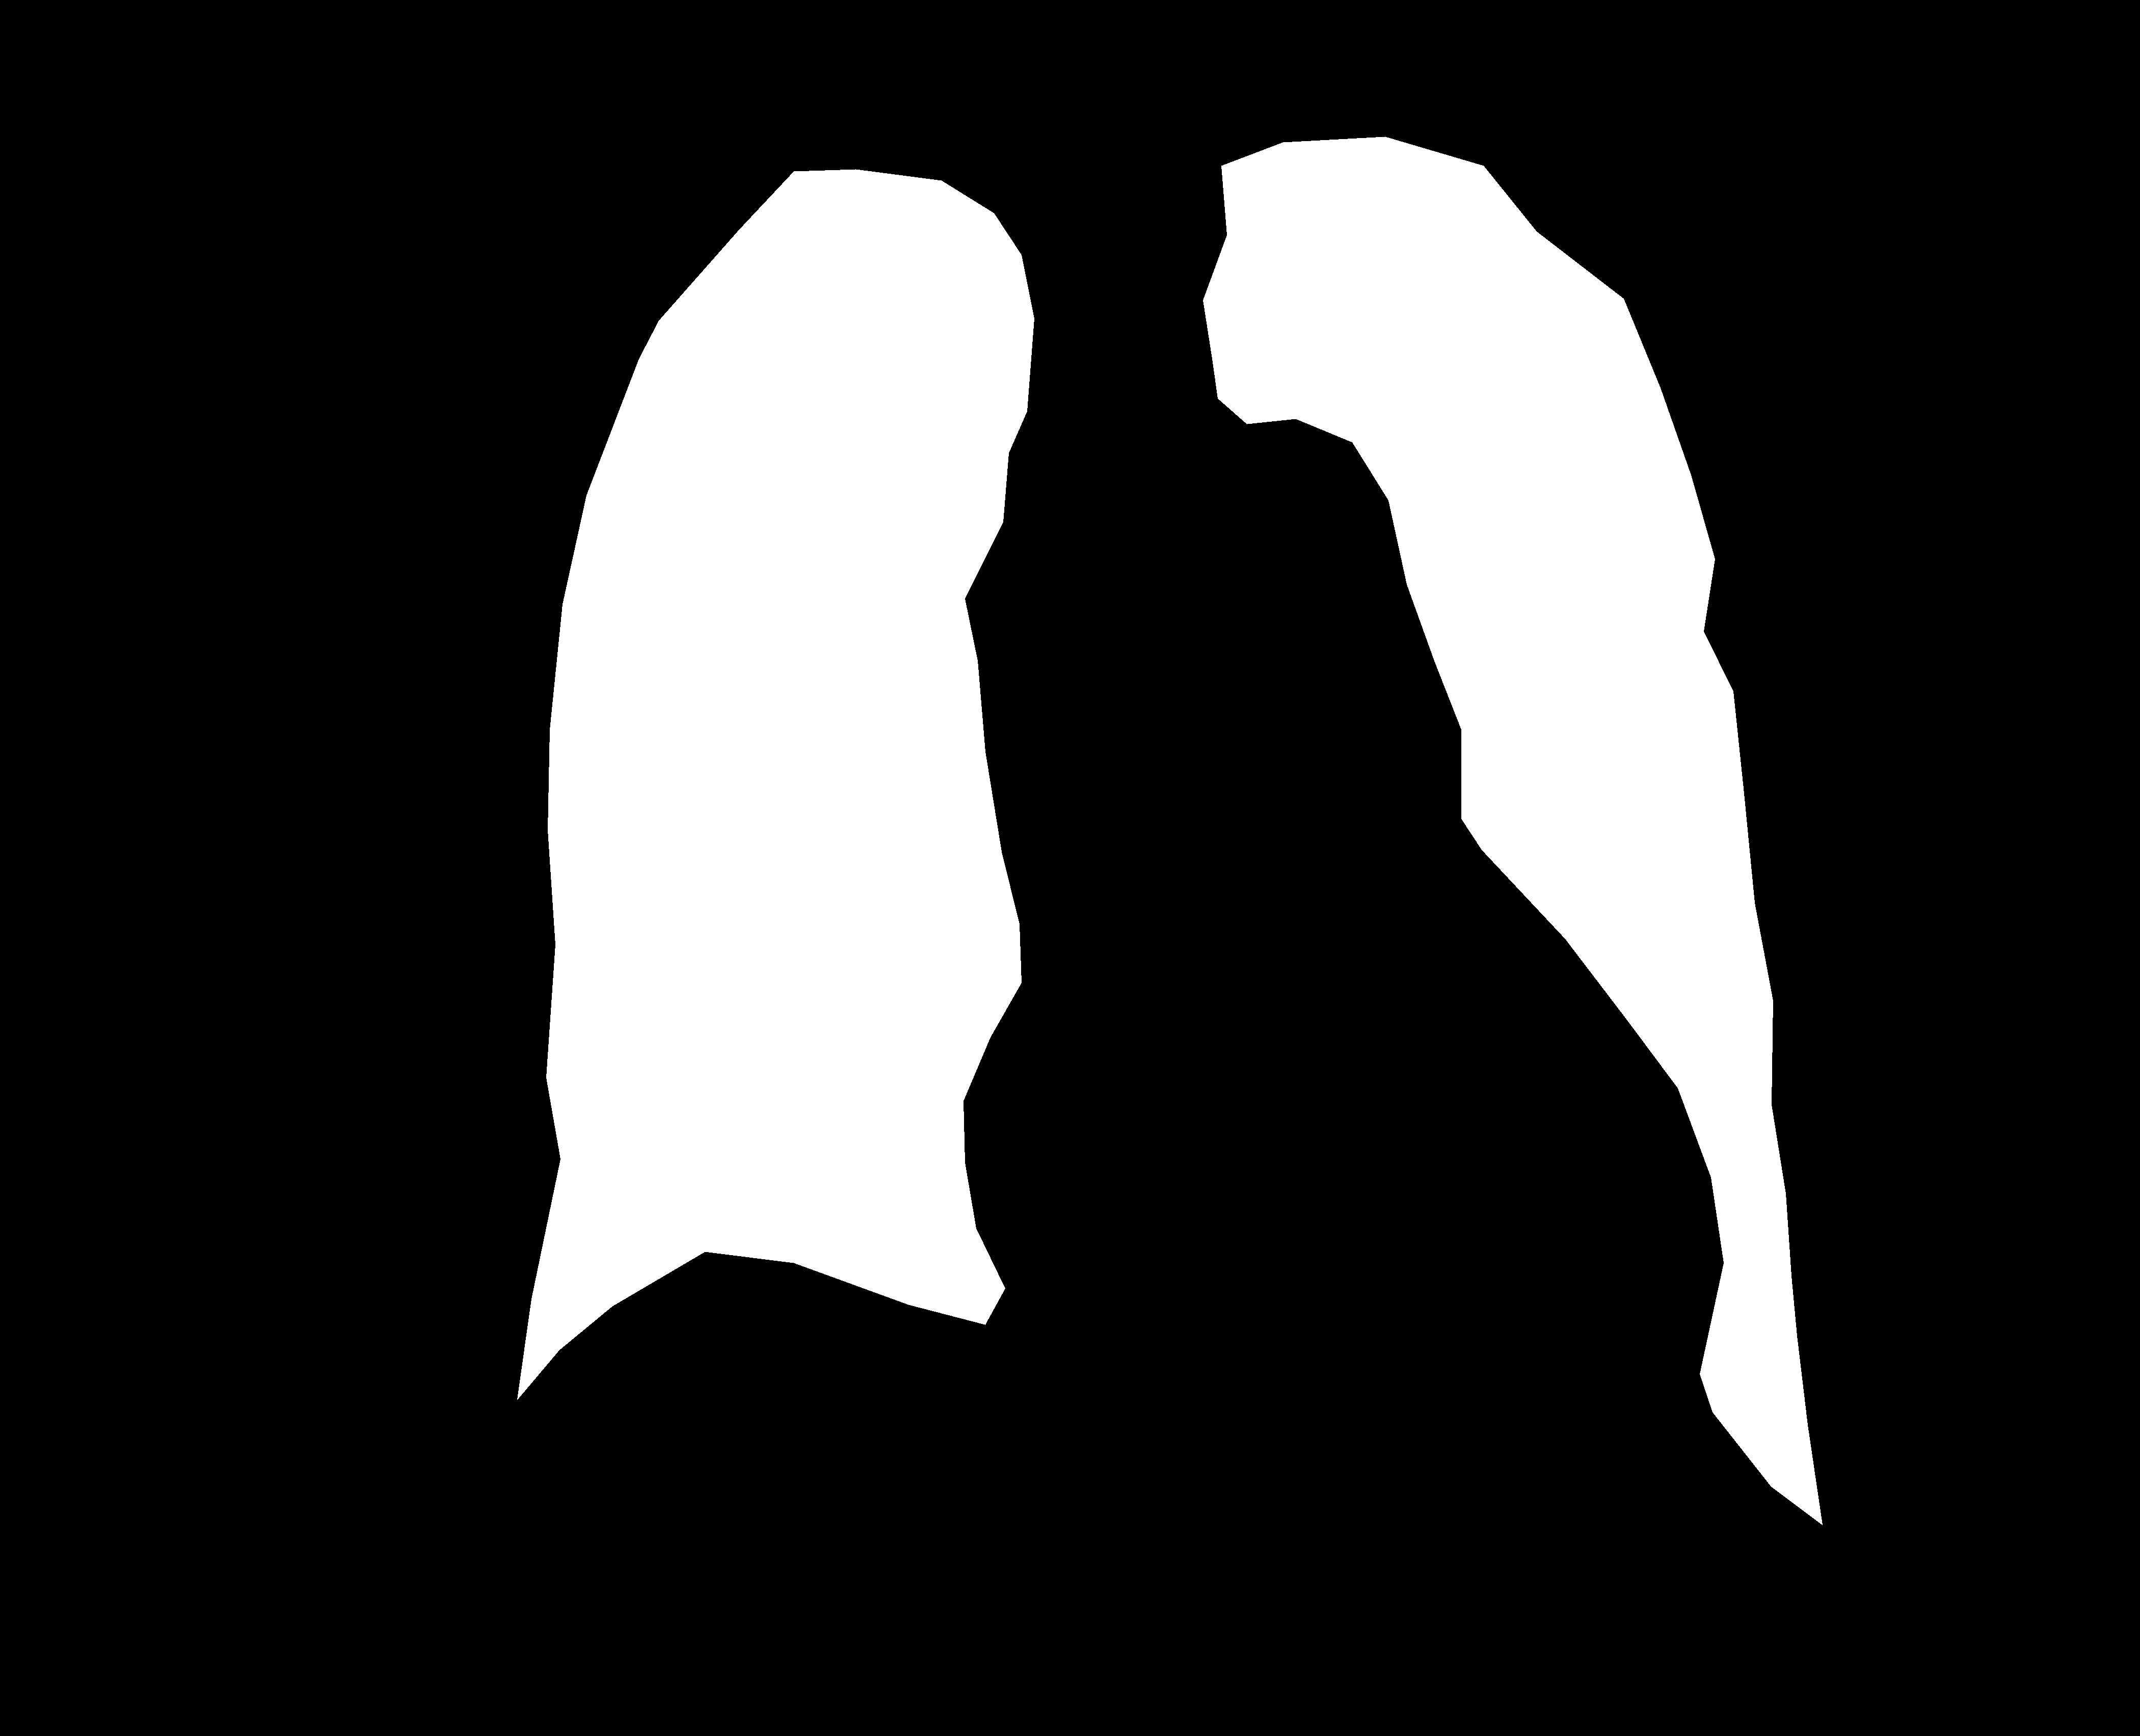heart: (955, 678, 1722, 1417)
left_lung: (517, 168, 1035, 1399)
right_lung: (1203, 136, 1823, 1525)
